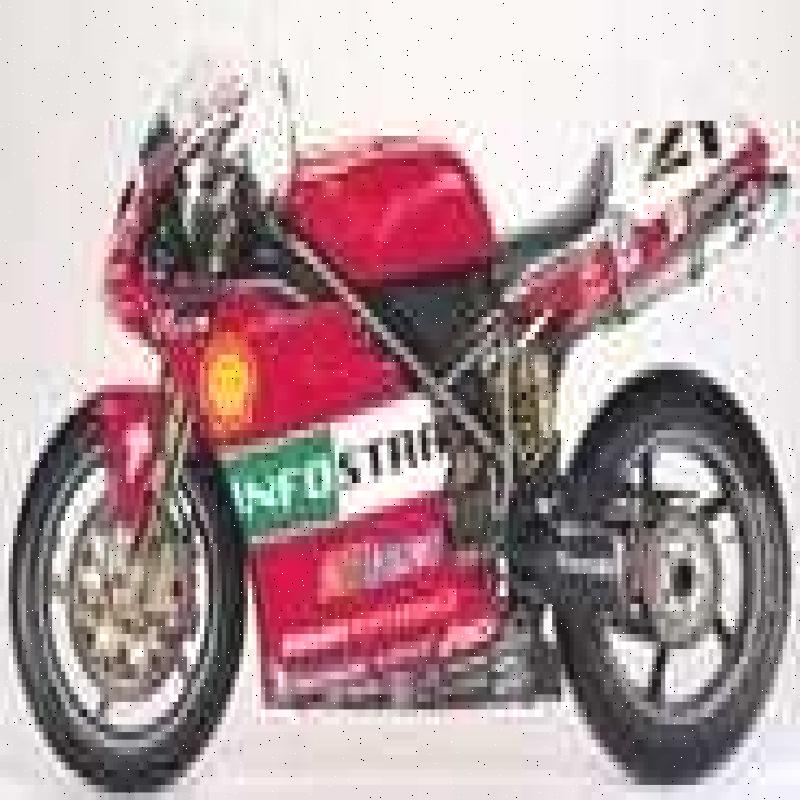bike: (0, 39, 800, 771)
